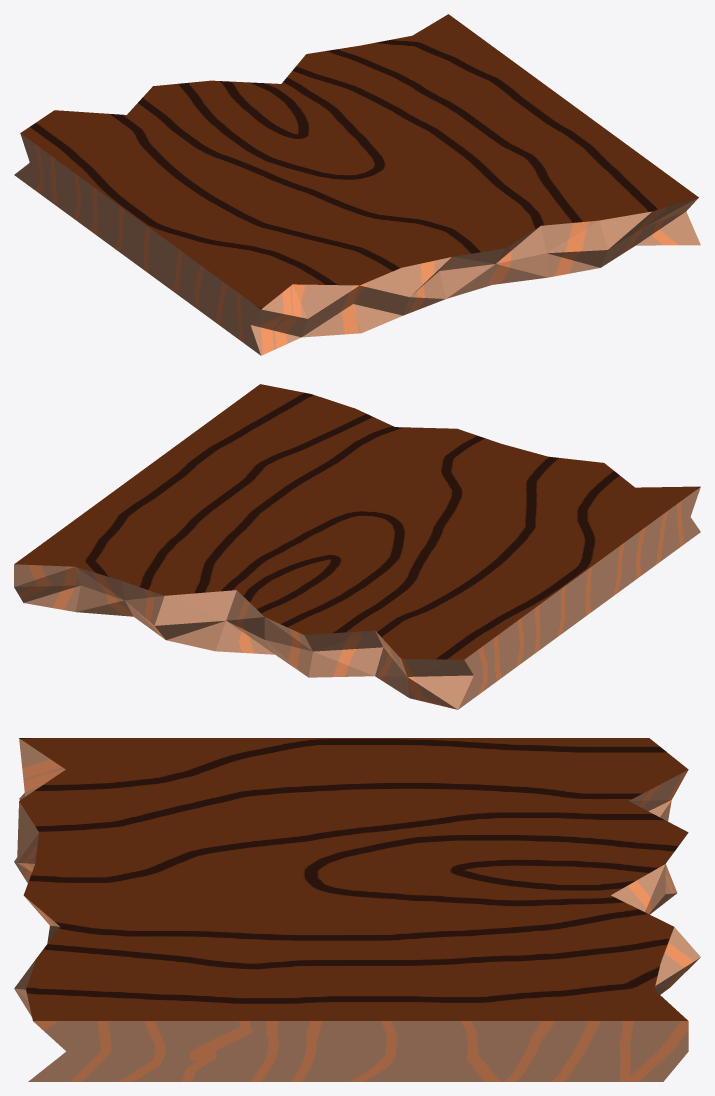
File: HardFloorRE.obj
3 renders of one model, top to bottom at view 1: azimuth 30°, elevation 25°; view 2: azimuth 150°, elevation 25°; view 3: azimuth 270°, elevation 25°, orthographic. The views are drawn at different scales.
Parts seen in each view (by area): view 1: Cube; view 2: Cube; view 3: Cube.
Part boxes in pixels (<box>): Cube: <box>14,14,700,355</box>; Cube: <box>14,384,700,709</box>; Cube: <box>14,738,700,1081</box>.
Bounding box in the file's own units: 1 × 0.1 × 1.03.
1 material, 1 textured.
